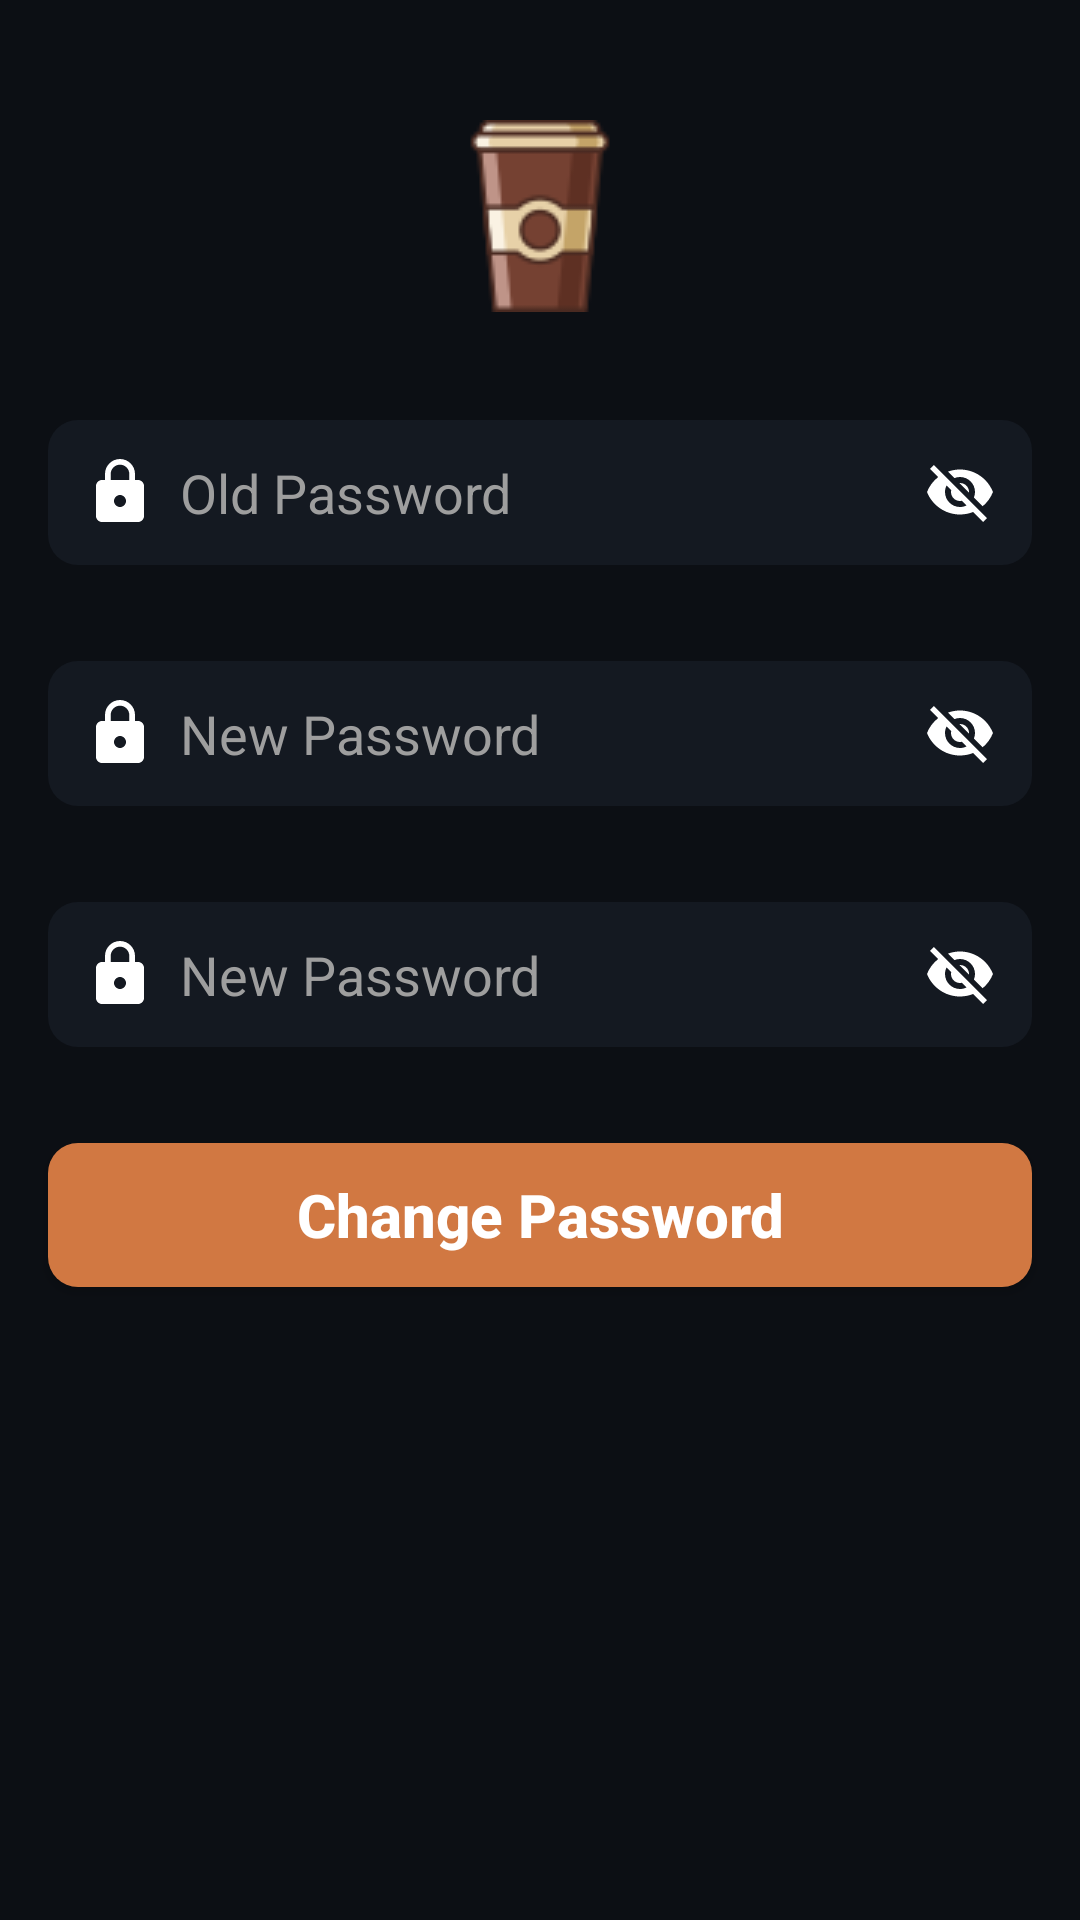

Icons on this 1080×1920 Android screen, each with the point to tap as (x,y):
coffee: (540,216)
